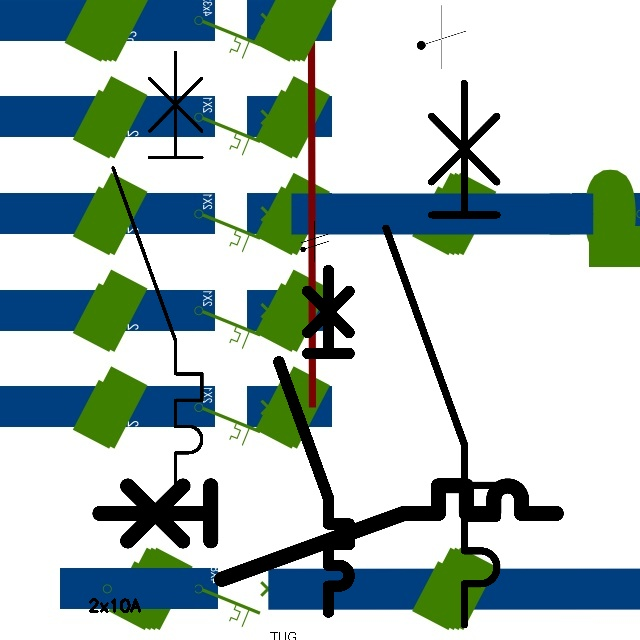interruptor_termomagnetico: (372, 69, 511, 639), (88, 474, 568, 591), (102, 41, 213, 497), (270, 261, 358, 620)
